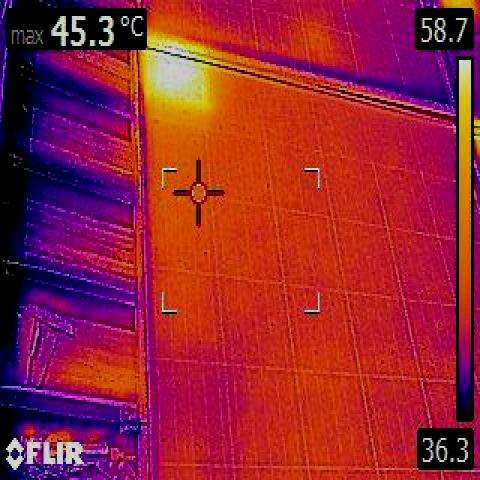fault: (150, 55, 202, 100)
